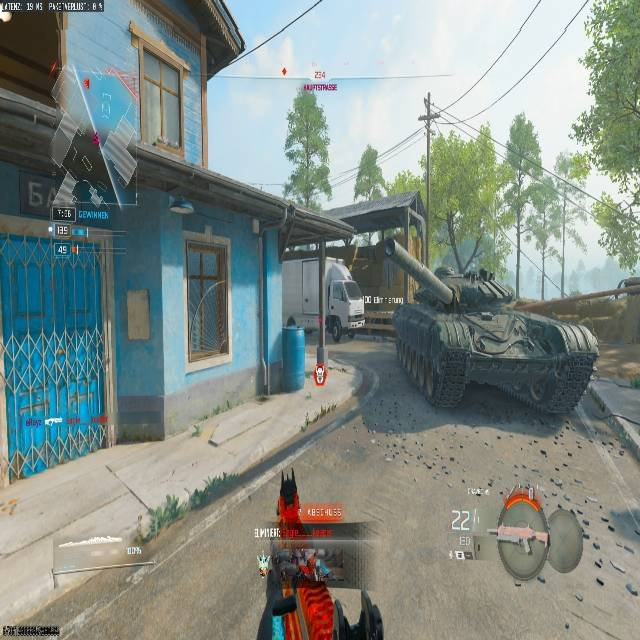player: (326, 307, 342, 341)
